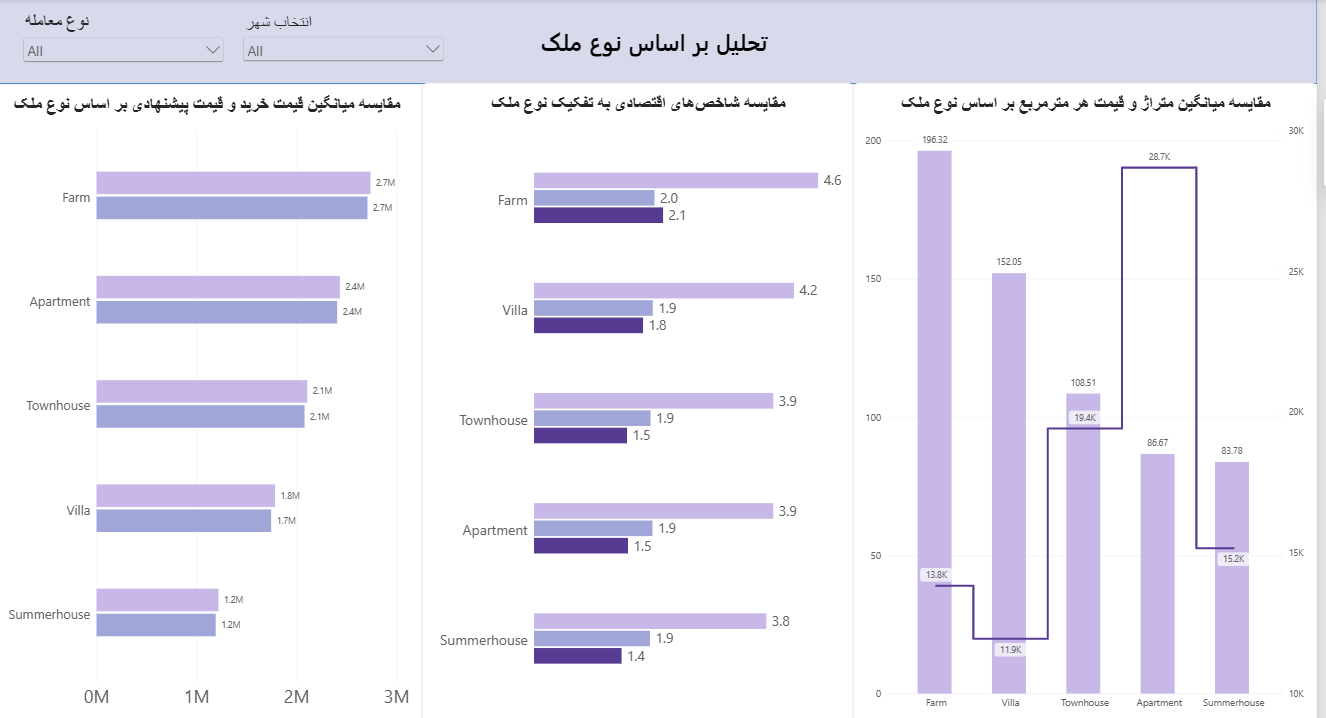

This screenshot's page, from the dashboard's own definition file:
{"tool":"powerbi","page":{"name":"house type ","canvas":[1920,1080],"ordinal":2},"visuals":[{"type":"shape","box":[0,0,1920.1,123.1],"z":0},{"type":"clusteredBarChart","title":"مقایسه میانگین قیمت خرید و قیمت پیشنهادی بر اساس نوع ملک","fields":{"Category":["Housing.house_type"],"Y":["Avg(Housing.purchase_price)","Avg(Housing.Offer Price)"]},"box":[0,123.1,624.3,957.3],"z":1000},{"type":"clusteredBarChart","title":"مقایسه شاخصهای اقتصادی به تفکیک نوع ملک","fields":{"Category":["Housing.house_type"],"Y":["Avg(Housing.yield_on_mortgage_credit_bonds%)","Avg(Housing.dk_ann_infl_rate%)","Avg(Housing.nom_interest_rate%)"]},"box":[624.3,121.2,624.3,959.1],"z":2000},{"type":"lineClusteredColumnComboChart","title":"مقایسه میانگین متراژ و قیمت هر مترمربع بر اساس نوع ملک","fields":{"Category":["Housing.house_type"],"Y":["Avg(Housing.sqm)"],"Y2":["Avg(Housing.sqm_price)"]},"box":[1248.7,121.2,671.4,959.1],"z":3000},{"type":"slicer","fields":{"Values":["Housing.sales_type"]},"box":[41.6,18.1,300.4,86.9],"z":4000},{"type":"slicer","fields":{"Values":["Housing.city"]},"box":[360.1,18.1,300.4,74.2],"z":5000}]}

Visuals, with their boxes on the page's 1920x1080 design canvas (x1, y1, x2, y2). These are canvas units, not pixel positions in the 1326x718 screenshot, which may show the page scaled, cropped or inside an application window:
shape: <region>0, 0, 1920, 123</region>
"مقایسه میانگین قیمت خرید و قیمت پیشنهادی بر اساس نوع ملک" clusteredBarChart: <region>0, 123, 624, 1080</region>
"مقایسه شاخصهای اقتصادی به تفکیک نوع ملک" clusteredBarChart: <region>624, 121, 1249, 1080</region>
"مقایسه میانگین متراژ و قیمت هر مترمربع بر اساس نوع ملک" lineClusteredColumnComboChart: <region>1249, 121, 1920, 1080</region>
slicer - Housing.sales_type: <region>42, 18, 342, 105</region>
slicer - Housing.city: <region>360, 18, 660, 92</region>
